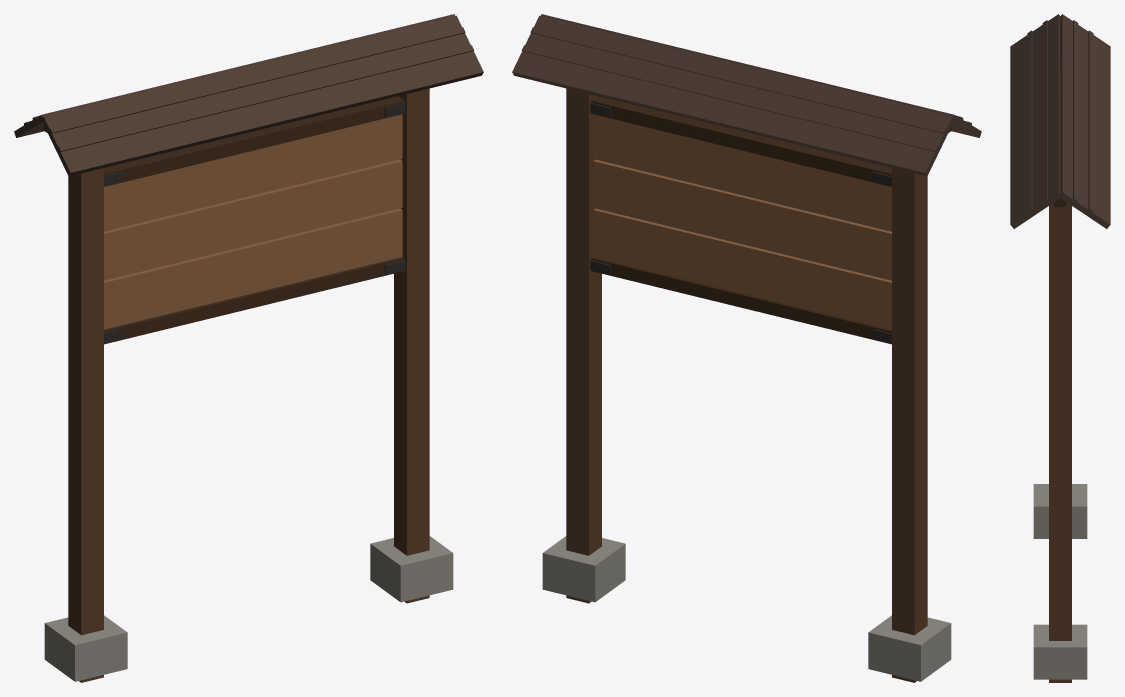
The model's file is signpost.glb.
The picture shows the model from 3 angles, left to right: view 1: azimuth 30°, elevation 25°; view 2: azimuth 150°, elevation 25°; view 3: azimuth 270°, elevation 25°; orthographic projection. The views are drawn at different scales.
Visible parts, largest first — view 1: shingle8, post0_mx, post0, plank2_2, plank2_1, plank2_3, trim3, trim4, stone1, stone1_mx, shingle9, shingle10 (+1 smaller); view 2: shingle8_mz, post0_mx, post0, plank2_2, plank2_1, plank2_3, trim3, trim4, stone1, stone1_mx, shingle9_mz, shingle10_mz (+1 smaller); view 3: post0, shingle8, shingle8_mz, stone1, stone1_mx, shingle9_mz, shingle10, shingle10_mz, shingle9.
Part boxes in pixels (box(x1,y1,x2,y2)): shingle8: box(41, 15, 483, 176); post0_mx: box(68, 168, 103, 682); post0: box(394, 88, 429, 603); plank2_2: box(104, 159, 402, 280); plank2_1: box(104, 208, 402, 329); plank2_3: box(104, 114, 402, 231); trim3: box(104, 96, 404, 186); trim4: box(104, 257, 404, 344); stone1: box(370, 536, 453, 602); stone1_mx: box(44, 615, 127, 681); shingle9: box(49, 27, 465, 134); shingle10: box(57, 45, 474, 151); shingle8_mz: box(512, 15, 954, 176); post0_mx: box(892, 168, 927, 682); post0: box(566, 88, 601, 603); plank2_2: box(593, 159, 891, 280); plank2_1: box(593, 208, 891, 329); plank2_3: box(593, 114, 891, 231); trim3: box(591, 96, 891, 186); trim4: box(591, 257, 891, 344); stone1: box(542, 536, 625, 602); stone1_mx: box(868, 615, 951, 681); shingle9_mz: box(530, 27, 946, 134); shingle10_mz: box(521, 45, 937, 152); post0: box(1049, 202, 1071, 682); shingle8: box(1010, 14, 1061, 228); shingle8_mz: box(1060, 14, 1110, 228); stone1: box(1033, 624, 1087, 679); stone1_mx: box(1033, 484, 1087, 538); shingle9_mz: box(1073, 20, 1078, 202); shingle10: box(1027, 30, 1033, 212); shingle10_mz: box(1088, 30, 1093, 212); shingle9: box(1042, 20, 1047, 202).
Bounding box in the file's own units: 2.36 × 3.11 × 0.5608.
